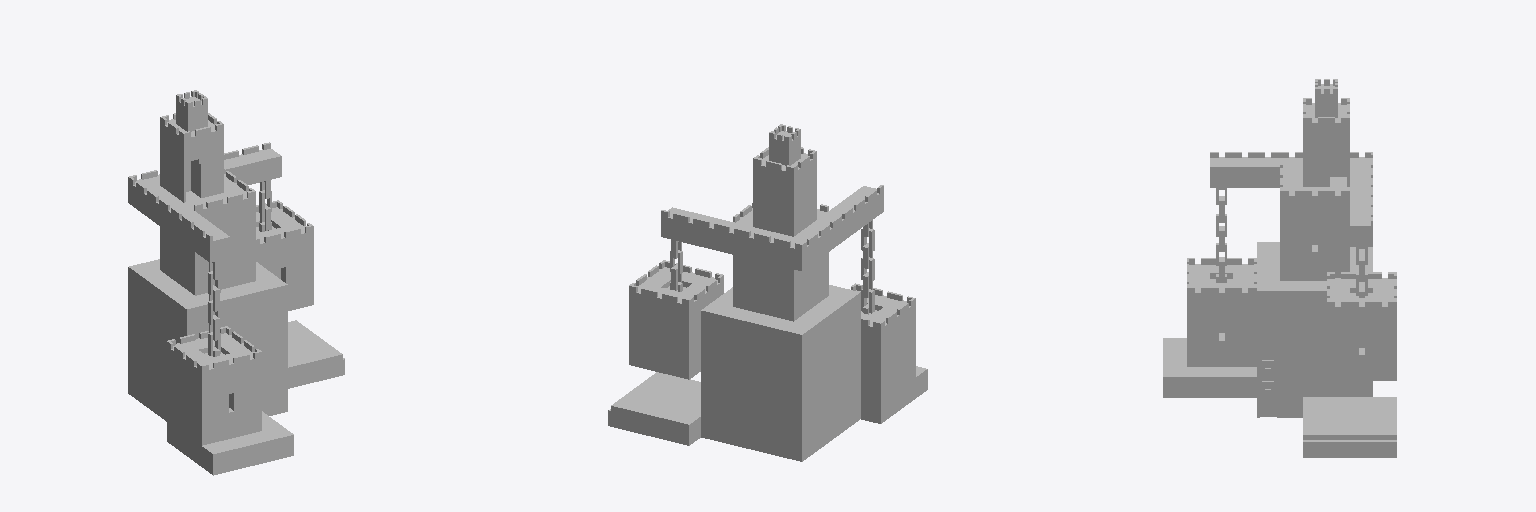
The model's file is Templo Fuego.obj.
3 renders of one model, left to right at view 1: azimuth 30°, elevation 25°; view 2: azimuth 150°, elevation 25°; view 3: azimuth 270°, elevation 25°, orthographic.
Visible parts, largest first — view 1: object 1; view 2: object 1; view 3: object 1.
Boxes of the visible parts, box(x1,y1,x2,y2) form: object 1: box(128, 90, 344, 475); object 1: box(608, 124, 927, 461); object 1: box(1163, 79, 1396, 457).
Size of the model in its own units: 8 by 11.5 by 8.